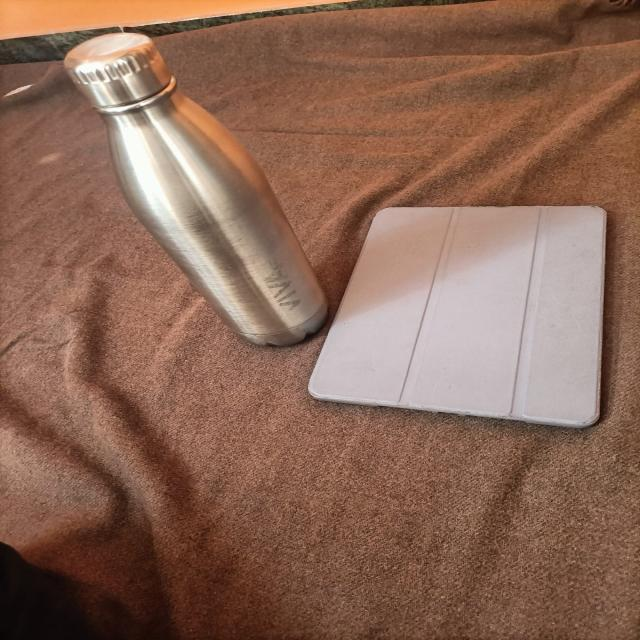bottle: (56, 2, 309, 366)
tablet: (309, 184, 621, 441)
